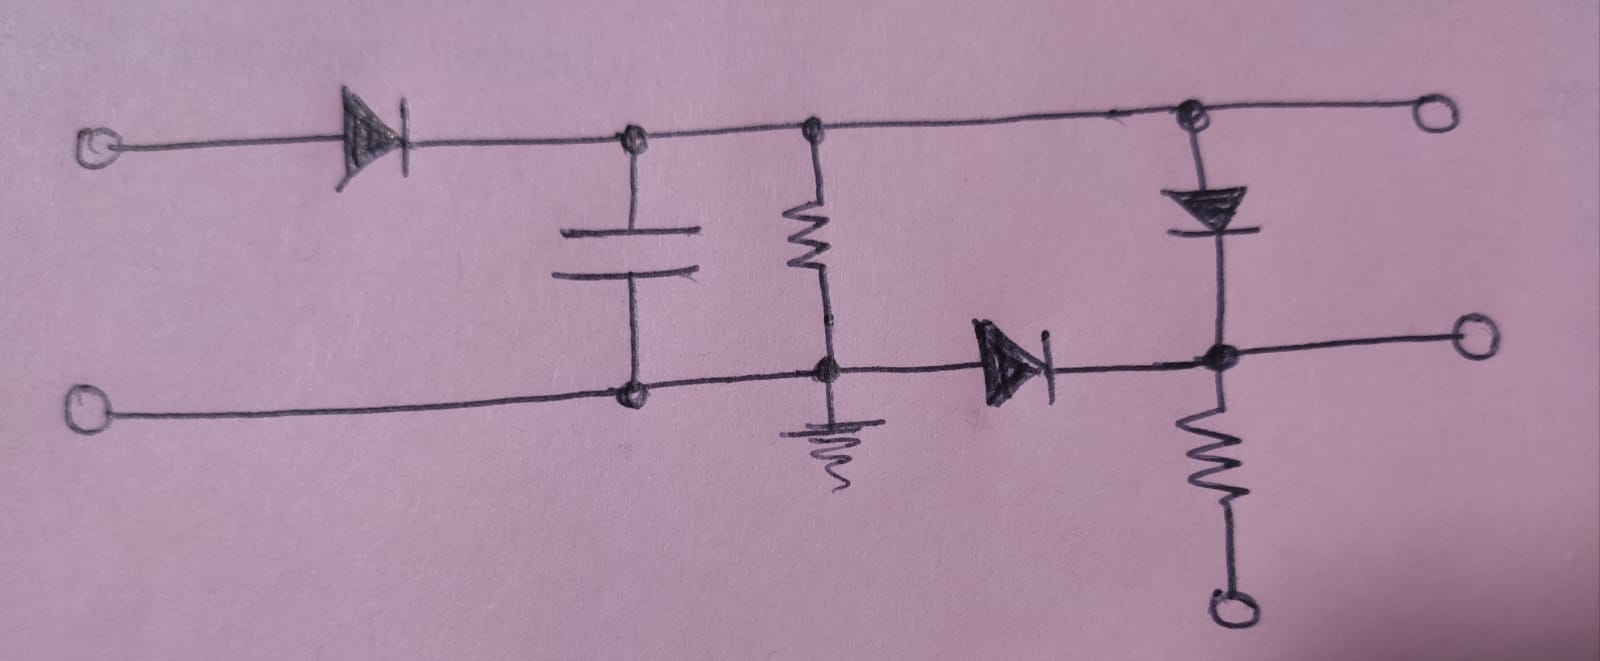capacitor.unpolarized: (552, 217, 701, 295)
diode: (333, 82, 423, 192), (966, 317, 1063, 406), (1160, 180, 1262, 244)
gnd: (781, 414, 886, 499)
junction: (1165, 91, 1219, 139), (1193, 336, 1249, 379), (610, 119, 658, 162), (612, 375, 657, 417), (807, 349, 849, 391), (795, 111, 831, 148)
resistor: (1174, 400, 1251, 511), (778, 193, 838, 279)
terminal: (1201, 581, 1269, 638), (70, 120, 134, 176), (60, 382, 124, 437), (1404, 87, 1460, 137), (1444, 312, 1500, 362)
